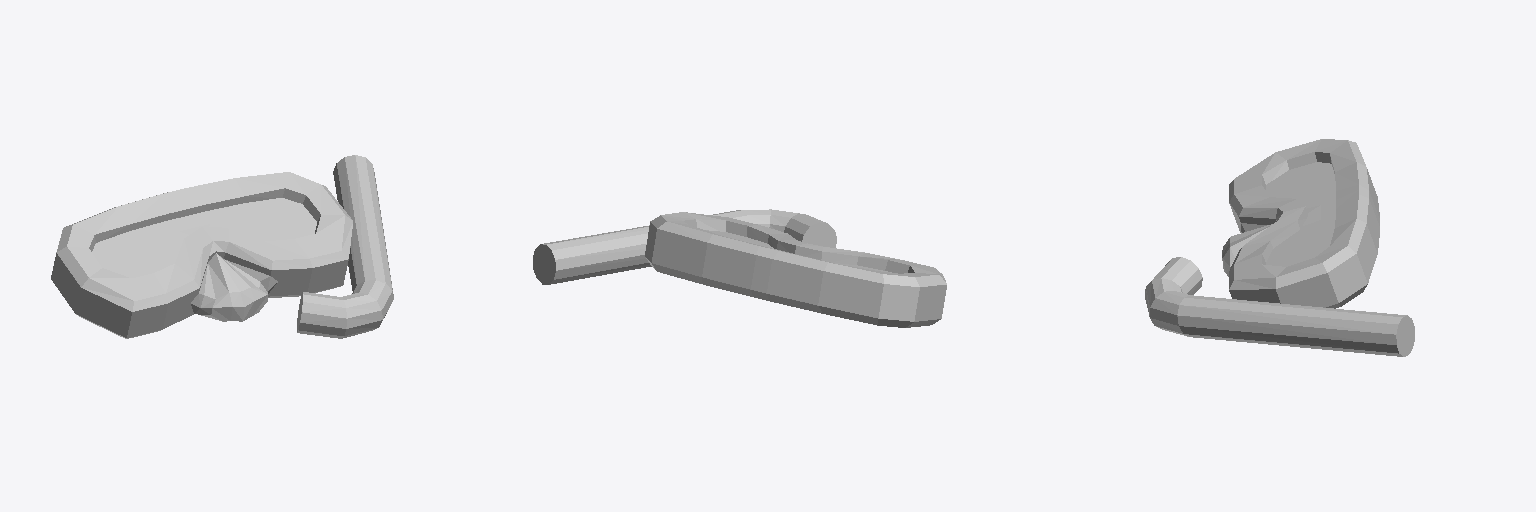
File: scuba_hat.obj
The picture shows the model from 3 angles: view 1: azimuth 30°, elevation 25°; view 2: azimuth 150°, elevation 25°; view 3: azimuth 270°, elevation 25°; orthographic projection.
Visible parts, largest first — view 1: Cube.008_Cube.009, Cylinder.006_Cylinder.007, Cube.009_Cube.010; view 2: Cube.008_Cube.009, Cylinder.006_Cylinder.007; view 3: Cube.008_Cube.009, Cylinder.006_Cylinder.007, Cube.009_Cube.010.
Part boxes in pixels (x1,y1,x2,y2): Cube.008_Cube.009: (51, 172, 352, 338); Cylinder.006_Cylinder.007: (297, 155, 393, 338); Cube.009_Cube.010: (92, 198, 316, 277); Cube.008_Cube.009: (645, 212, 946, 327); Cylinder.006_Cylinder.007: (533, 209, 836, 284); Cube.008_Cube.009: (1222, 139, 1379, 308); Cylinder.006_Cylinder.007: (1145, 257, 1414, 356); Cube.009_Cube.010: (1266, 162, 1335, 266).
Bounding box in the file's own units: 0.9492 × 0.2379 × 0.628.